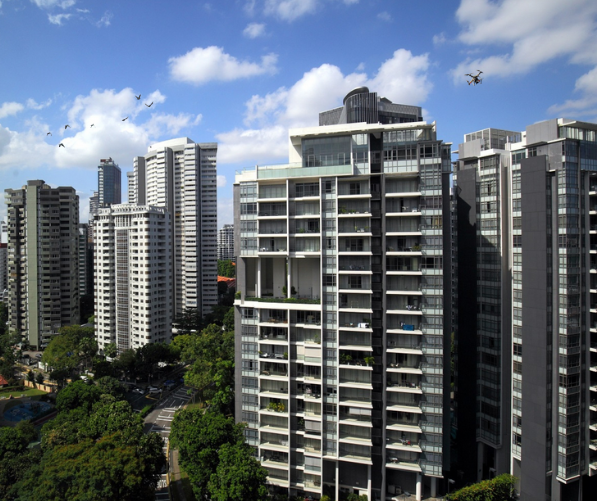drone_other: (464, 68, 485, 86)
